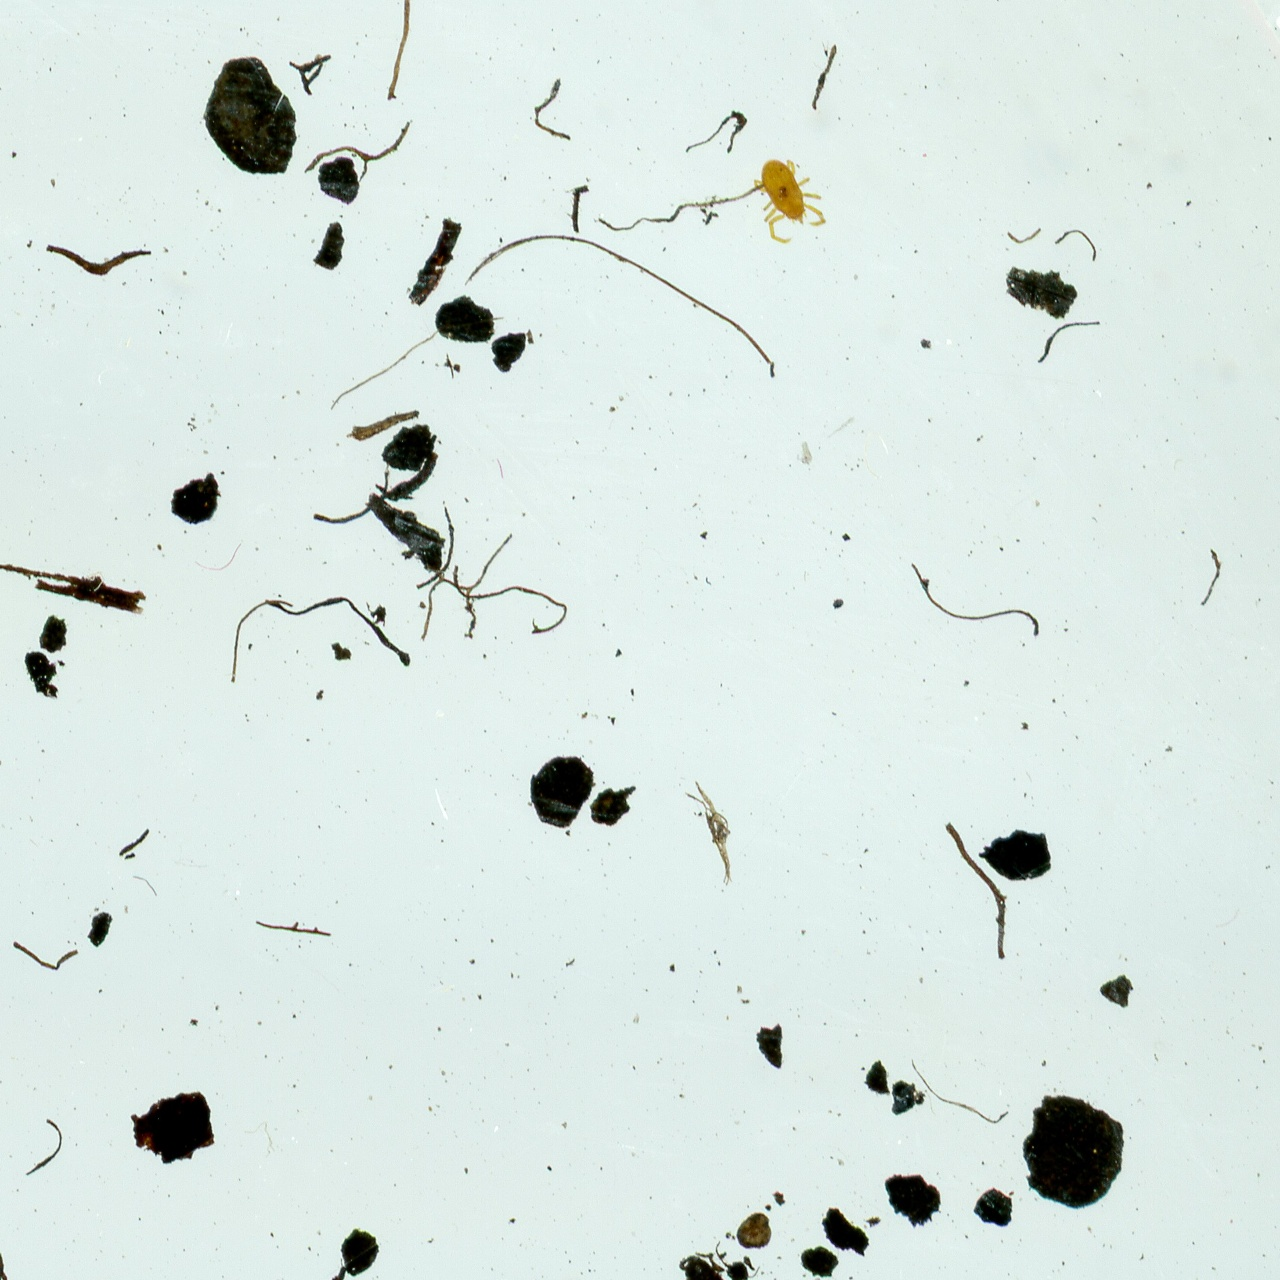arthropod: (750, 156, 830, 247)
